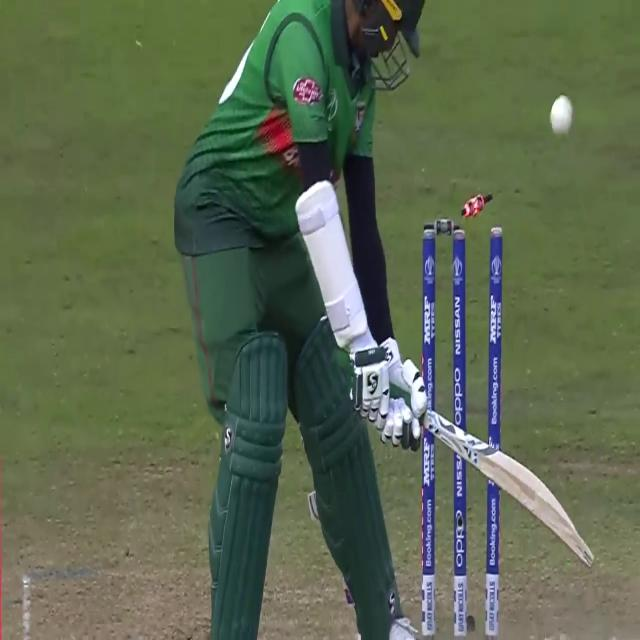ball: (546, 92, 576, 140)
